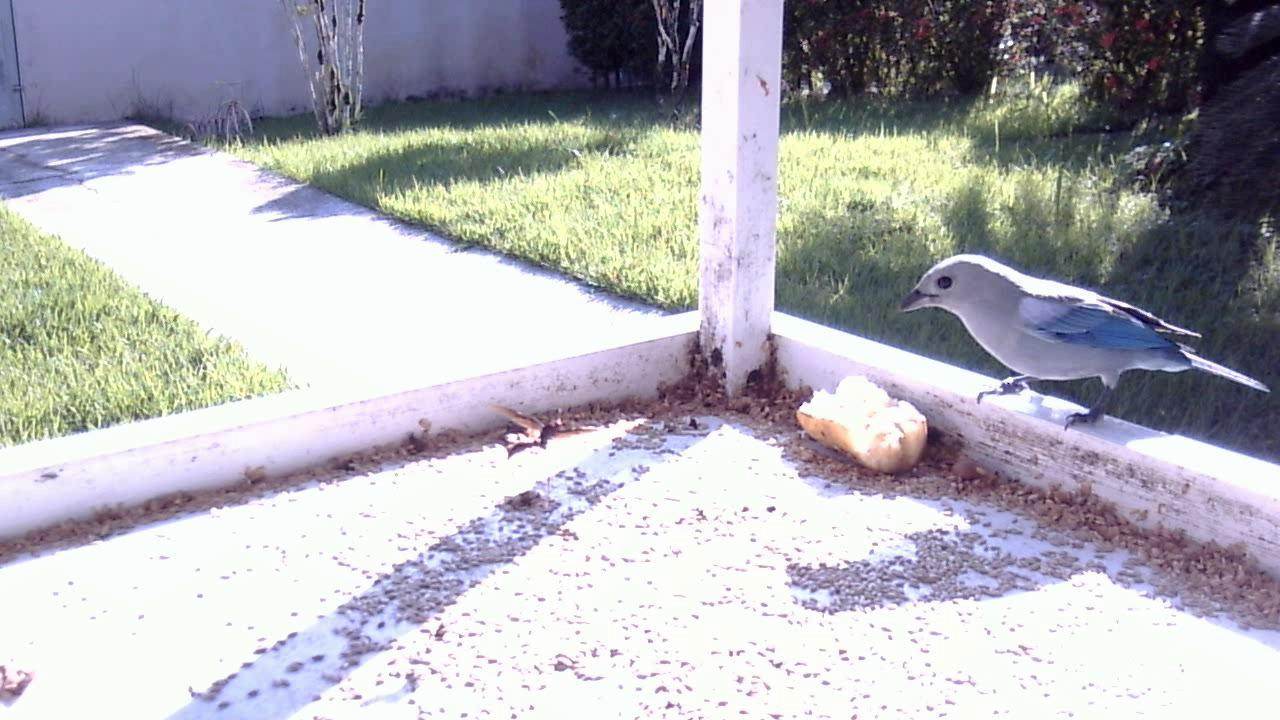sanhaco_da_amazonia: (889, 247, 1268, 436)
